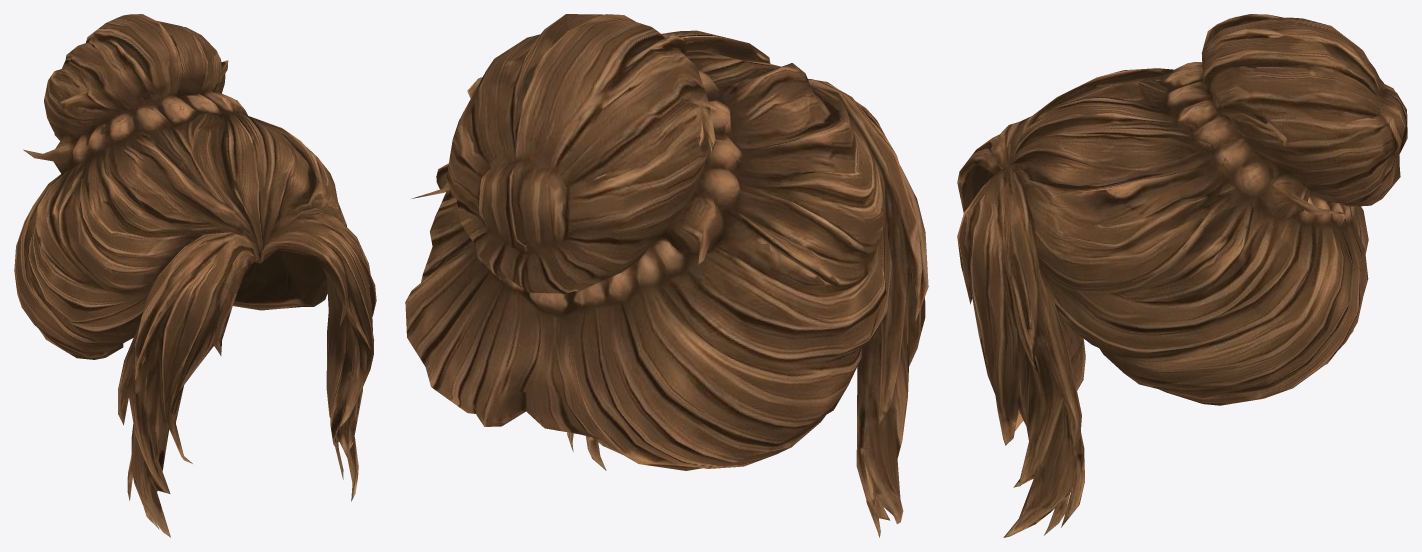
The model's file is hero-cheveux-longs.glb.
3 renders of one model, left to right at view 1: azimuth 30°, elevation 25°; view 2: azimuth 150°, elevation 25°; view 3: azimuth 270°, elevation 25°, orthographic. The views are drawn at different scales.
Visible parts, largest first — view 1: mesh_node; view 2: mesh_node; view 3: mesh_node.
Part boxes in pixels (x1=…): mesh_node: x1=14, y1=14, x2=376, y2=537; mesh_node: x1=405, y1=14, x2=928, y2=537; mesh_node: x1=957, y1=14, x2=1407, y2=537.
Size of the model in its own units: 1.33 by 1.9 by 1.66.
Materials: 1 (1 with a texture image).
